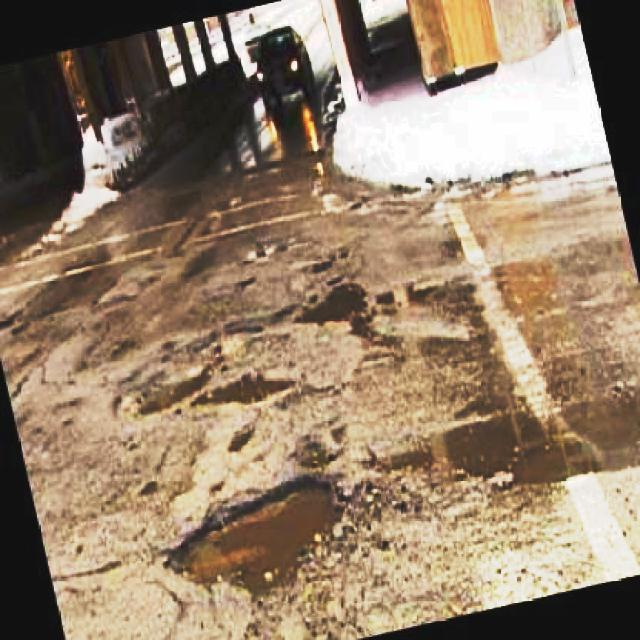pothole: (162, 469, 364, 598), (380, 404, 640, 488), (112, 351, 231, 418), (194, 364, 311, 414), (289, 268, 380, 326)
